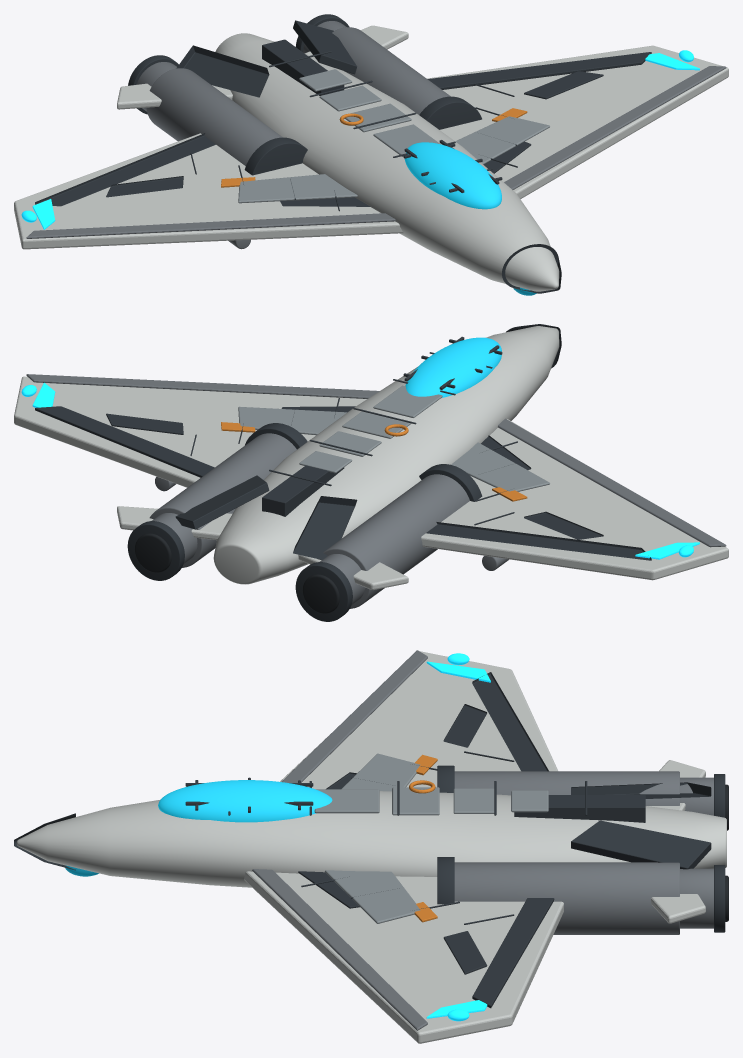
File: kestrel-mk1-authored-v1.glb
3 renders of one model, top to bottom at view 1: azimuth 30°, elevation 25°; view 2: azimuth 150°, elevation 25°; view 3: azimuth 270°, elevation 25°, orthographic. The views are drawn at different scales.
Visible parts, largest first — view 1: Kestrel runtime — Kestrel weathered ceramic, Kestrel runtime — Graphite composite, Kestrel runtime — Heat stained engine metal, Kestrel runtime — Ceramic service panels, Kestrel runtime — Cyan canopy, Kestrel runtime — Faction accent, Kestrel runtime — Maintenance warning; view 2: Kestrel runtime — Kestrel weathered ceramic, Kestrel runtime — Graphite composite, Kestrel runtime — Heat stained engine metal, Kestrel runtime — Ceramic service panels, Kestrel runtime — Cyan canopy, Kestrel runtime — Engine internal ceramic, Kestrel runtime — Faction accent, Kestrel runtime — Maintenance warning; view 3: Kestrel runtime — Kestrel weathered ceramic, Kestrel runtime — Heat stained engine metal, Kestrel runtime — Graphite composite, Kestrel runtime — Ceramic service panels, Kestrel runtime — Cyan canopy, Kestrel runtime — Faction accent, Kestrel runtime — Maintenance warning.
Boxes of the visible parts, x1,y1,x2,y2 form: Kestrel runtime — Kestrel weathered ceramic: (14,25,728,291); Kestrel runtime — Graphite composite: (35,14,651,293); Kestrel runtime — Heat stained engine metal: (26,21,726,249); Kestrel runtime — Ceramic service panels: (238,69,549,203); Kestrel runtime — Cyan canopy: (404,142,501,209); Kestrel runtime — Faction accent: (21,50,699,229); Kestrel runtime — Maintenance warning: (221,108,527,187); Kestrel runtime — Kestrel weathered ceramic: (14,326,728,590); Kestrel runtime — Graphite composite: (35,324,651,621); Kestrel runtime — Heat stained engine metal: (26,374,726,608); Kestrel runtime — Ceramic service panels: (238,385,549,491); Kestrel runtime — Cyan canopy: (405,337,501,397); Kestrel runtime — Engine internal ceramic: (134,533,339,613); Kestrel runtime — Faction accent: (21,382,699,559); Kestrel runtime — Maintenance warning: (221,422,527,501); Kestrel runtime — Kestrel weathered ceramic: (16,651,726,1043); Kestrel runtime — Heat stained engine metal: (252,650,713,1030); Kestrel runtime — Graphite composite: (14,672,725,1008); Kestrel runtime — Ceramic service panels: (314,753,548,923); Kestrel runtime — Cyan canopy: (158,780,332,822); Kestrel runtime — Faction accent: (426,653,490,1021); Kestrel runtime — Maintenance warning: (409,754,437,922).
Bounding box in the file's own units: 14.47 × 1.87 × 11.42.
